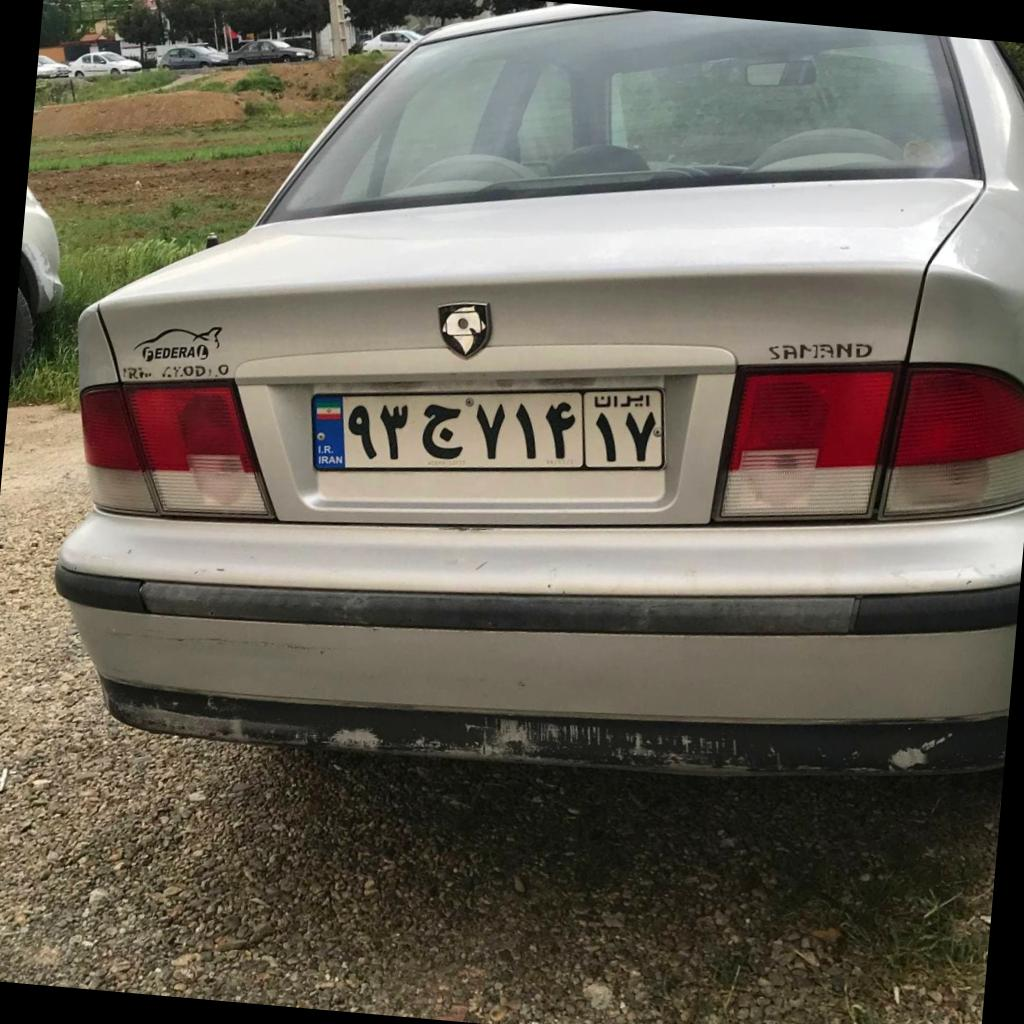Plates: (313, 388, 662, 468)
